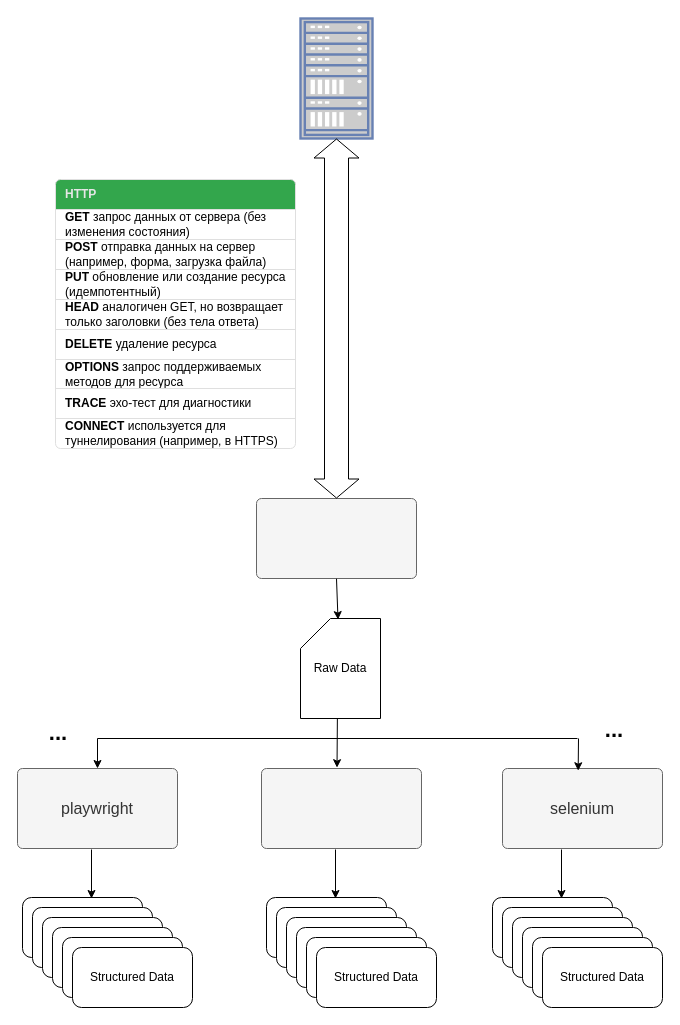
The diagram is 680 pixels wide and 1025 high, and some of its shapes have lost their labels. The shapes that lost their labels are listed below. From the top down, each one's centre as x and y in pixels, then its label:
At pixel 336 538: "requests".
At pixel 341 808: "bs4".
